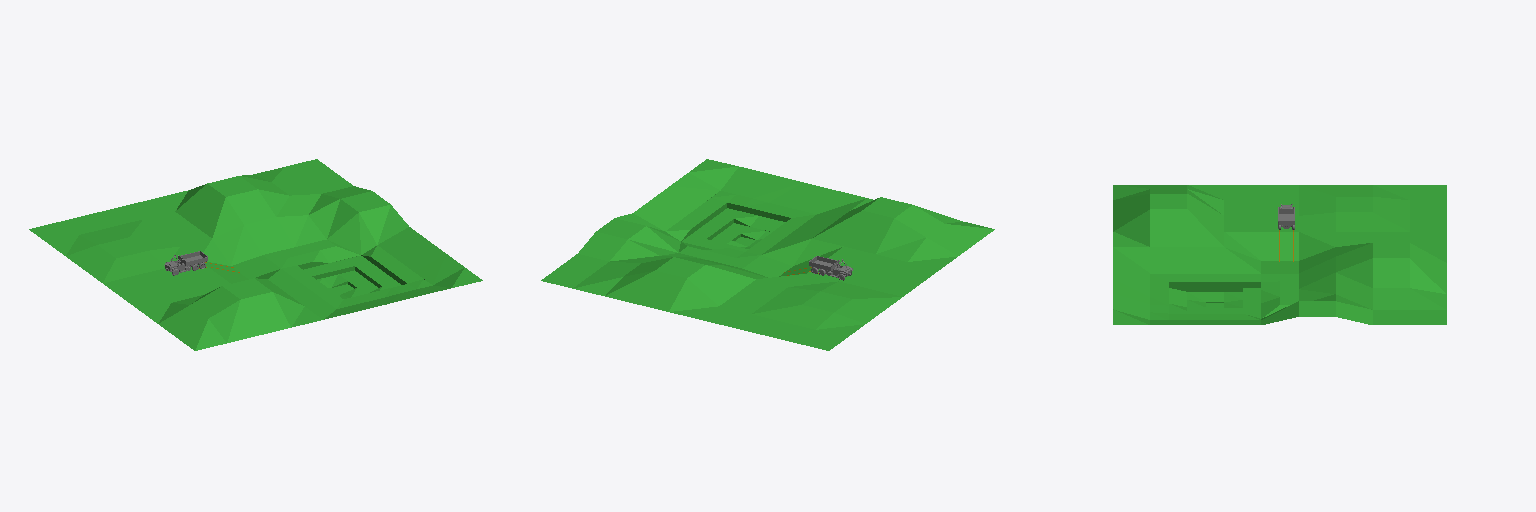
File: bldg_claypit.obj
3 views of the same model, side by side, from view 1: azimuth 30°, elevation 25°; view 2: azimuth 150°, elevation 25°; view 3: azimuth 270°, elevation 25° (orthographic).
Parts seen in each view (by area): view 1: Plane, truckMAT2; view 2: Plane, truckMAT2; view 3: Plane.
Part boxes in pixels (left/top/right/bottom): Plane: left=29, top=159, right=482, bottom=350; truckMAT2: left=164, top=251, right=207, bottom=275; Plane: left=541, top=159, right=994, bottom=350; truckMAT2: left=809, top=256, right=852, bottom=280; Plane: left=1113, top=185, right=1446, bottom=324.
Bounding box in the file's own units: 13.16 × 2.04 × 13.16.